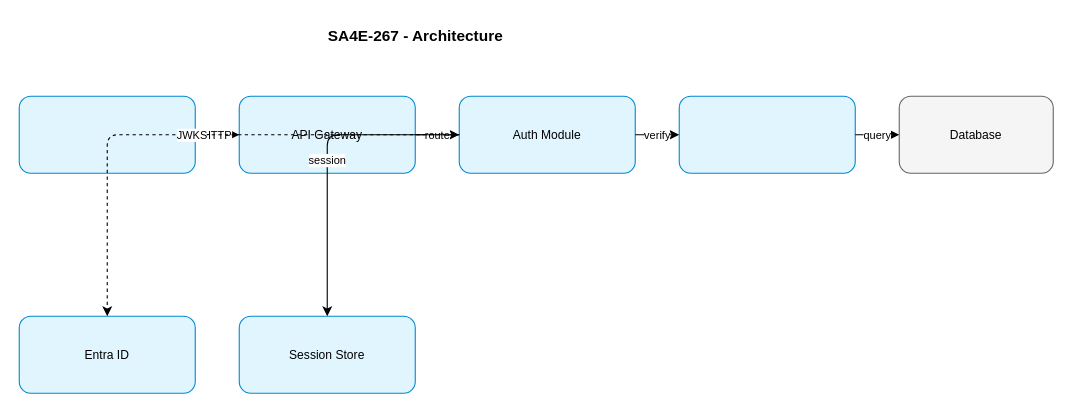
This 1073x413 diagram has some shape labels left out. Here are the shapes that lost their labels. From the top down, the centre of each, then its label:
the point at 106,134: Client / Browser
the point at 766,134: Backend Services
